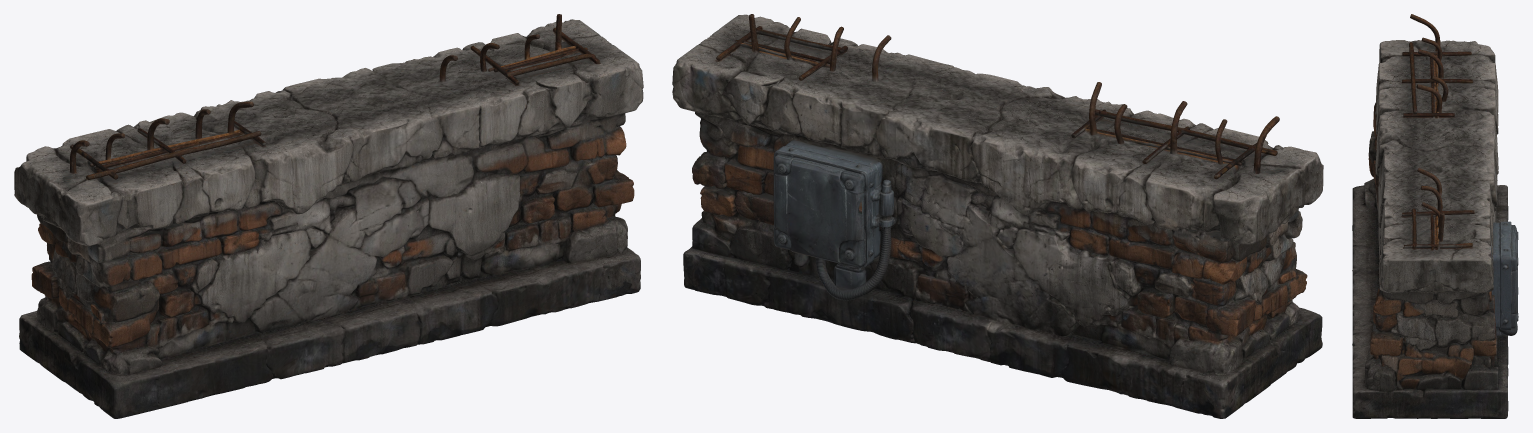
The model's file is rebar_wall.glb.
3 views of the same model, side by side, from view 1: azimuth 30°, elevation 25°; view 2: azimuth 150°, elevation 25°; view 3: azimuth 270°, elevation 25° (orthographic). The views are drawn at different scales.
Parts seen in each view (by area): view 1: rebar_wall; view 2: rebar_wall; view 3: rebar_wall.
Boxes of the visible parts, left/top/right/bottom form: rebar_wall: left=14, top=14, right=643, bottom=418; rebar_wall: left=672, top=14, right=1323, bottom=418; rebar_wall: left=1352, top=14, right=1518, bottom=418.
Size of the model in its own units: 1.9 by 0.805 by 0.6014.
Materials: 1 (1 with a texture image).
